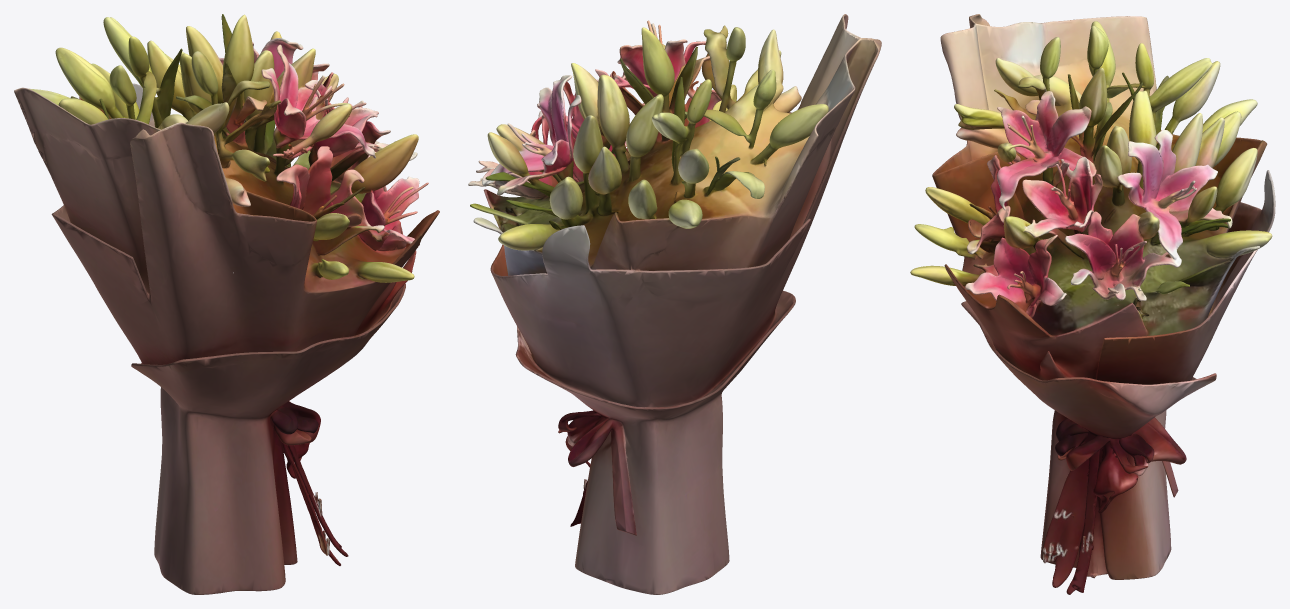
The model's file is user_lily_bouquet.glb.
3 renders of one model, left to right at view 1: azimuth 30°, elevation 25°; view 2: azimuth 150°, elevation 25°; view 3: azimuth 270°, elevation 25°, orthographic. The views are drawn at different scales.
Visible parts, largest first — view 1: tripo_node_c3faca91-0c89-4d3b-9a45-e972adcefe90; view 2: tripo_node_c3faca91-0c89-4d3b-9a45-e972adcefe90; view 3: tripo_node_c3faca91-0c89-4d3b-9a45-e972adcefe90.
Boxes of the visible parts, box(x1,y1,x2,y2) form: tripo_node_c3faca91-0c89-4d3b-9a45-e972adcefe90: box(14, 14, 439, 594); tripo_node_c3faca91-0c89-4d3b-9a45-e972adcefe90: box(468, 14, 881, 594); tripo_node_c3faca91-0c89-4d3b-9a45-e972adcefe90: box(910, 14, 1275, 594).
Size of the model in its own units: 0.6874 by 0.9814 by 0.6609.
1 material, 1 textured.
